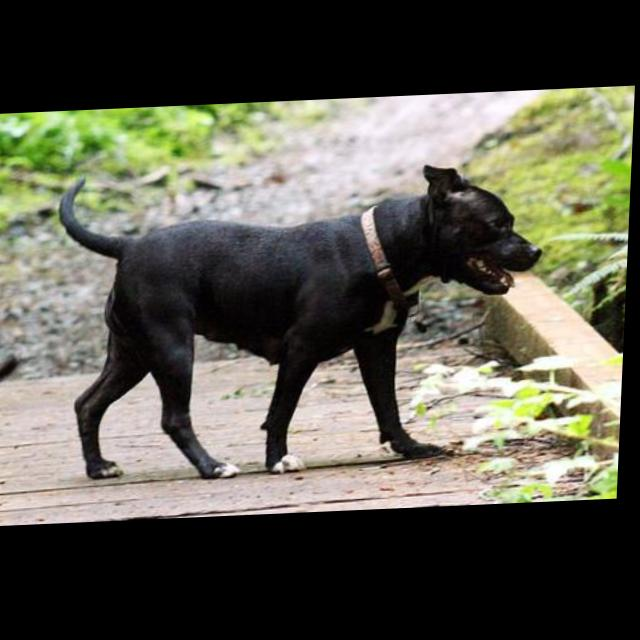staffford: (52, 161, 550, 488)
